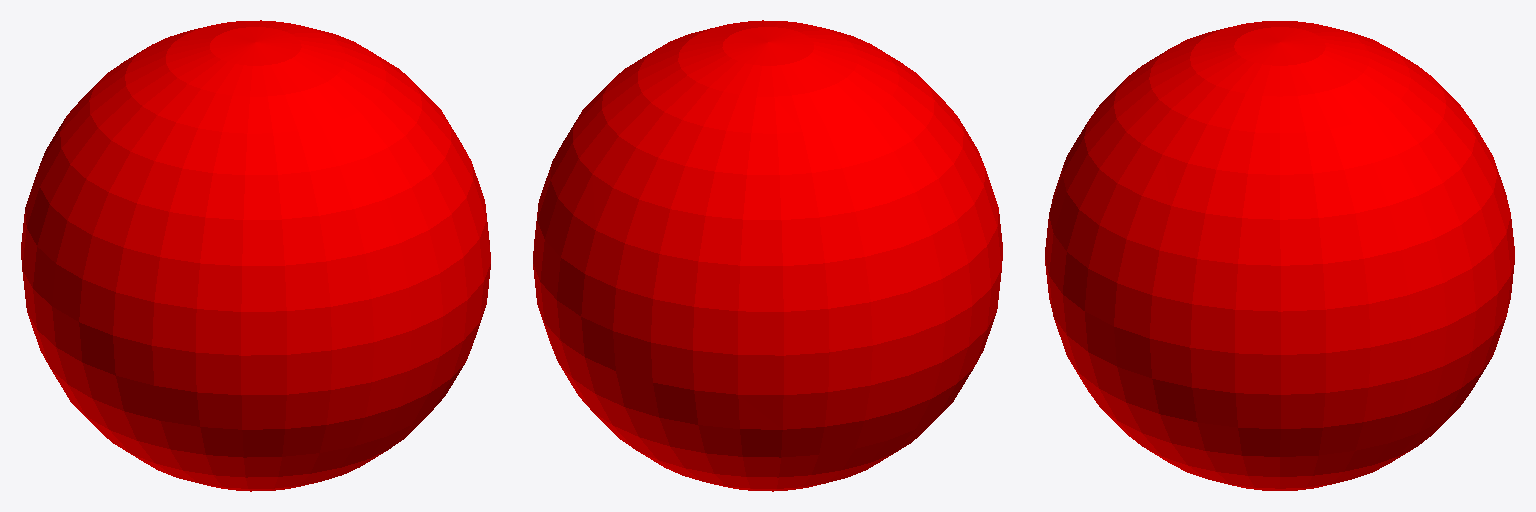
The robot description file, URDF, robot "panda":
<?xml version="1.0" ?>

<robot name="panda" xmlns:xacro="http://www.ros.org/wiki/xacro">

  <material name="Blue">
    <color rgba="0 0.1 1.0 1.0"/>
  </material>
  <material name="Red">
    <color rgba="1.0 0.0 0.0 1.0"/>
  </material>
  <material name="TransparentRed">
    <color rgba="0.9 0 0.2 0.5"/>
  </material>

  <!-- connect arm to world -->
    <link name="world"/>
    <joint name="world_joint" type="fixed">
      <parent link="world"/>
      <child link="fixed_base"/>
      <origin rpy="0.0 0.0 -3.14" xyz="0.0 0.0 0.0"/>
    </joint>

  <link name="fixed_base">
  	<inertial>
      <origin rpy="0 0 0" xyz="0 0 0.05"/>
       <mass value="2.9"/>
       <inertia ixx="0.1" ixy="0" ixz="0" iyy="0.1" iyz="0" izz="0.1"/>
    </inertial>
    <visual>
      <geometry>
        <mesh filename="../collision/link0.obj"/>
      </geometry>
      <material name="panda_white">
    		<color rgba="1. 1. 1. 1."/>
  		</material>
    </visual>
    <collision>
      <geometry>
        <mesh filename="../collision/link0.obj"/>
      </geometry>
      <material name="panda_white"/>
    </collision>
  </link>

  <link name="panda_link1">
  	<inertial>
      <origin rpy="0 0 0" xyz="0 -0.04 -0.05"/>
       <mass value="2.7"/>
       <inertia ixx="0.1" ixy="0" ixz="0" iyy="0.1" iyz="0" izz="0.1"/>
    </inertial>
    <visual>
      <geometry>
        <mesh filename="visual/link1.obj"/>
      </geometry>
      <material name="panda_white"/>
    </visual>
    <collision>
      <geometry>
        <mesh filename="../collision/link1.obj"/>
      </geometry>
      <material name="panda_white"/>
    </collision>
  </link>

  <joint name="panda_joint1" type="revolute">
    <safety_controller k_position="100.0" k_velocity="40.0" soft_lower_limit="-2.8973" soft_upper_limit="2.8973"/>
    <origin rpy="0 0 0" xyz="0 0 0.333"/>
    <parent link="fixed_base"/>
    <child link="panda_link1"/>
    <axis xyz="0 0 1"/>
    <limit effort="87" lower="-100" upper="100" velocity="2.1750"/>
  </joint>

  <link name="panda_link2">
  	<inertial>
      <origin rpy="0 0 0" xyz="0 -0.04 0.06"/>
       <mass value="2.73"/>
       <inertia ixx="0.1" ixy="0" ixz="0" iyy="0.1" iyz="0" izz="0.1"/>
    </inertial>
    <visual>
      <geometry>
        <mesh filename="visual/link2.obj"/>
      </geometry>
      <material name="panda_white"/>
    </visual>
    <collision>
      <geometry>
        <mesh filename="../collision/link2.obj"/>
      </geometry>
      <material name="panda_white"/>
    </collision>
  </link>

  <joint name="panda_joint2" type="revolute">
    <safety_controller k_position="100.0" k_velocity="40.0" soft_lower_limit="-1.7628" soft_upper_limit="1.7628"/>
    <origin rpy="-1.57079632679 0 0" xyz="0 0 0"/>
    <parent link="panda_link1"/>
    <child link="panda_link2"/>
    <axis xyz="0 0 1"/>
    <limit effort="87" lower="-100" upper="100" velocity="2.1750"/>
  </joint>

  <link name="panda_link3">
	  <inertial>
      <origin rpy="0 0 0" xyz="0.01 0.01 -0.05"/>
       <mass value="2.04"/>
       <inertia ixx="0.1" ixy="0" ixz="0" iyy="0.1" iyz="0" izz="0.1"/>
    </inertial>
    <visual>
      <geometry>
        <mesh filename="visual/link3.obj"/>
      </geometry>
      <material name="panda_red">
    		<color rgba="1. 1. 1. 1."/>
  		</material>
    </visual>
    <collision>
      <geometry>
        <mesh filename="../collision/link3.obj"/>
      </geometry>
    </collision>
  </link>

  <joint name="panda_joint3" type="revolute">
    <safety_controller k_position="100.0" k_velocity="40.0" soft_lower_limit="-2.8973" soft_upper_limit="2.8973"/>
    <origin rpy="1.57079632679 0 0" xyz="0 -0.316 0"/>
    <parent link="panda_link2"/>
    <child link="panda_link3"/>
    <axis xyz="0 0 1"/>
    <limit effort="87" lower="-100" upper="100" velocity="2.1750"/>
  </joint>

  <link name="panda_link4">
  	<inertial>
      <origin rpy="0 0 0" xyz="-0.03 0.03 0.02"/>
       <mass value="2.08"/>
       <inertia ixx="0.1" ixy="0" ixz="0" iyy="0.1" iyz="0" izz="0.1"/>
    </inertial>
    <visual>
      <geometry>
        <mesh filename="visual/link4.obj"/>
      </geometry>
      <material name="panda_white"/>
    </visual>
    <collision>
      <geometry>
        <mesh filename="../collision/link4.obj"/>
      </geometry>
      <material name="panda_white"/>
    </collision>
  </link>

  <joint name="panda_joint4" type="revolute">
    <safety_controller k_position="100.0" k_velocity="40.0" soft_lower_limit="-3.0718" soft_upper_limit="-0.0698"/>
    <origin rpy="1.57079632679 0 0" xyz="0.0825 0 0"/>
    <parent link="panda_link3"/>
    <child link="panda_link4"/>
    <axis xyz="0 0 1"/>
    <limit effort="87" lower="-100" upper="100" velocity="2.1750"/>
  </joint>

  <link name="panda_link5">
  	<inertial>
      <origin rpy="0 0 0" xyz="0 0.04 -0.12"/>
       <mass value="3"/>
       <inertia ixx="0.1" ixy="0" ixz="0" iyy="0.1" iyz="0" izz="0.1"/>
    </inertial>
    <visual>
      <geometry>
        <mesh filename="visual/link5.obj"/>
      </geometry>
      <material name="panda_white"/>
    </visual>
    <collision>
      <geometry>
        <mesh filename="../collision/link5.obj"/>
      </geometry>
      <material name="panda_white"/>
    </collision>
  </link>

  <joint name="panda_joint5" type="revolute">
    <safety_controller k_position="100.0" k_velocity="40.0" soft_lower_limit="-2.8973" soft_upper_limit="2.8973"/>
    <origin rpy="-1.57079632679 0 0" xyz="-0.0825 0.384 0"/>
    <parent link="panda_link4"/>
    <child link="panda_link5"/>
    <axis xyz="0 0 1"/>
    <limit effort="12" lower="-100" upper="100" velocity="2.6100"/>
  </joint>

  <link name="panda_link6">
  	<inertial>
      <origin rpy="0 0 0" xyz="0.04 0 0"/>
       <mass value="1.3"/>
       <inertia ixx="0.1" ixy="0" ixz="0" iyy="0.1" iyz="0" izz="0.1"/>
    </inertial>
    <visual>
      <geometry>
        <mesh filename="visual/link6.obj"/>
      </geometry>
      <material name="panda_white"/>
    </visual>
    <collision>
      <geometry>
        <mesh filename="../collision/link6.obj"/>
      </geometry>
      <material name="panda_white"/>
    </collision>
  </link>

  <joint name="panda_joint6" type="revolute">
    <safety_controller k_position="100.0" k_velocity="40.0" soft_lower_limit="-0.0175" soft_upper_limit="3.7525"/>
    <origin rpy="1.57079632679 0 0" xyz="0 0 0"/>
    <parent link="panda_link5"/>
    <child link="panda_link6"/>
    <axis xyz="0 0 1"/>
    <limit effort="12" lower="-100" upper="100" velocity="2.6100"/>
  </joint>

  <link name="panda_link7">
  	<inertial>
      <origin rpy="0 0 0" xyz="0 0 0.08"/>
       <mass value=".2"/>
       <inertia ixx="0.1" ixy="0" ixz="0" iyy="0.1" iyz="0" izz="0.1"/>
    </inertial>
    <visual>
      <geometry>
        <mesh filename="../collision/link7.obj"/>
      </geometry>
      <material name="panda_white"/>
    </visual>
    <collision>
      <geometry>
        <mesh filename="../collision/link7.obj"/>
      </geometry>
      <material name="panda_white"/>
    </collision>
  </link>

  <joint name="panda_joint7" type="revolute">
    <safety_controller k_position="100.0" k_velocity="40.0" soft_lower_limit="-2.8973" soft_upper_limit="2.8973"/>
    <origin rpy="1.57079632679 0 0" xyz="0.088 0 0"/>
    <parent link="panda_link6"/>
    <child link="panda_link7"/>
    <axis xyz="0 0 1"/>
    <limit effort="12" lower="-100" upper="100" velocity="2.6100"/>
  </joint>


  <!-- End Effector -->
  <link name="ee_link">
    <visual>
      <origin rpy="0 0 0" xyz="0 0 0"/>
      <geometry>
        <sphere radius="0.001"/>
      </geometry>
       <material name="Red"/>
    </visual>
    <collision>
      <geometry>
        <sphere radius="0.001"/>
      </geometry>
      <origin rpy="0 0 0" xyz="0.0 0 0"/>
    </collision>
  	 <inertial>
       <!-- <origin rpy="0.0 0.0 0.0" xyz="0.0 0.0 0.0"/> -->
       <origin rpy="-3.14 0.0 1.57" xyz="0.0 0.0 0.0"/>
       <mass value="0.0"/>
       <inertia ixx="0.001" ixy="0.0" ixz="0.0" iyy="0.001" iyz="0.0" izz="0.001"/>
    </inertial>
  </link>

  <joint name="ee_joint" type="fixed">
    <!-- <origin rpy="0.0 0.0 0.0" xyz="0 0 0.107"/> -->
    <origin rpy="3.14 0.0 1.57" xyz="0.0 0.0 0.107"/>
    <parent link="panda_link7"/>
    <child link="ee_link"/>
    <axis xyz="0 0 0"/>
  </joint>

</robot>

--- Facts derived from the render (not from the file) ---
Views: 3 orthographic renders of the robot side by side, from view 1: azimuth 30°, elevation 25°; view 2: azimuth 150°, elevation 25°; view 3: azimuth 270°, elevation 25°.
Robot: panda — 10 links, 9 joints (7 revolute, 2 fixed); root link world; default pose: all joints at 0.
Visible links, largest first — view 1: ee_link; view 2: ee_link; view 3: ee_link.
Link boxes in pixels (left/top/right/bottom): ee_link: left=21, top=20, right=490, bottom=491; ee_link: left=533, top=20, right=1002, bottom=491; ee_link: left=1045, top=21, right=1514, bottom=490.
Size in the robot's own frame: 0.002 by 0.002 by 0.002 metres.
Meshes: 8 distinct files referenced, 0 mesh visuals loaded (none loaded); not drawn: 8 (reference not matched to a file when rendering).